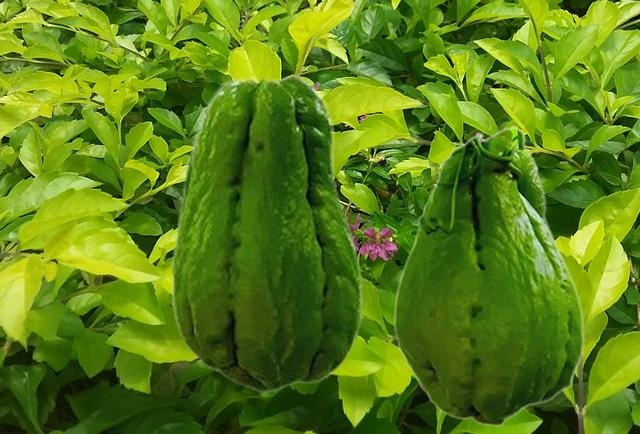sayote: (171, 73, 362, 392), (393, 125, 584, 426)
